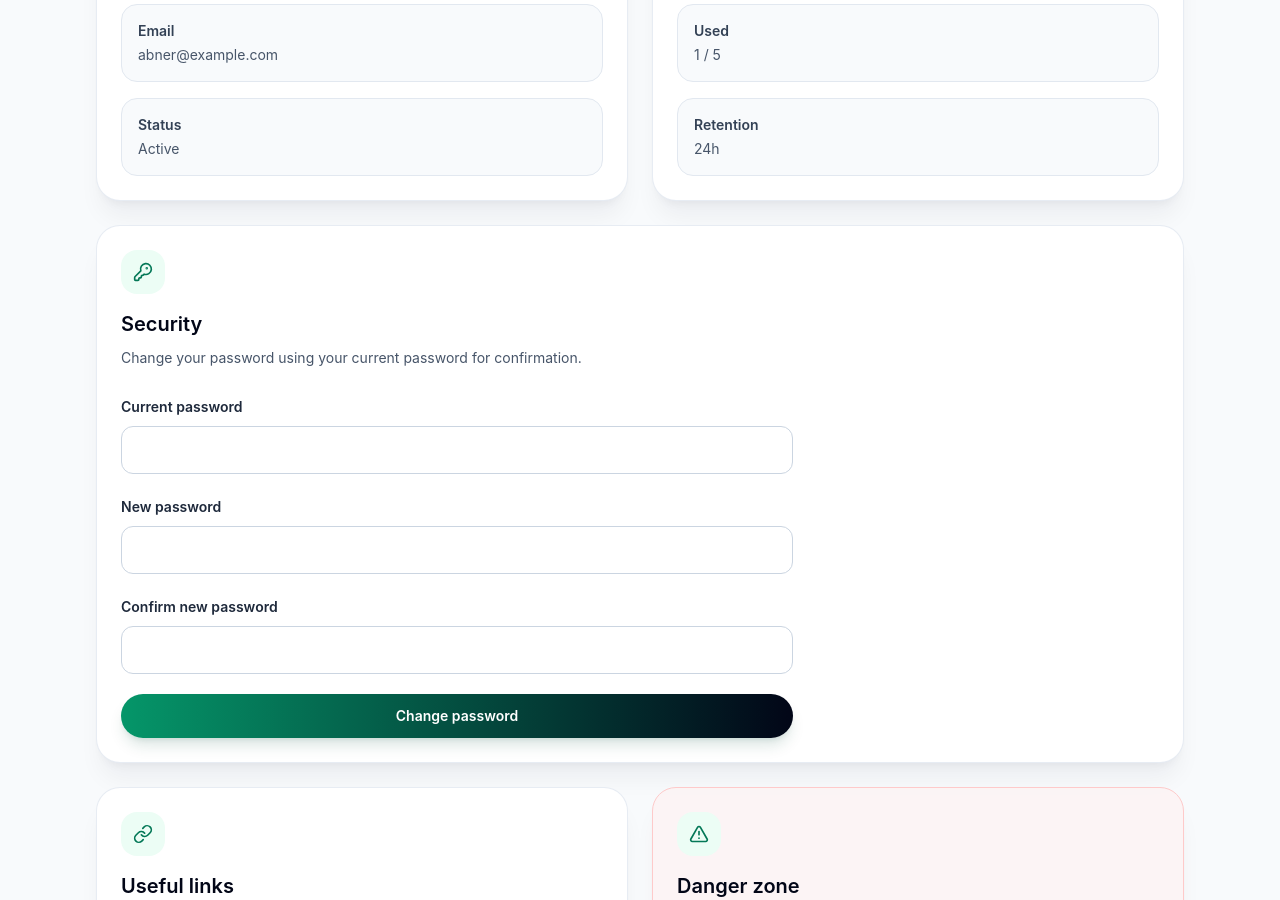
Test case: AccountPage › validates password confirmation before submitting
(page scrolled)
Step 1. Type "StrongPassword123!" into the password field labelled "Current password" → (457, 450), box [121,426,793,474]
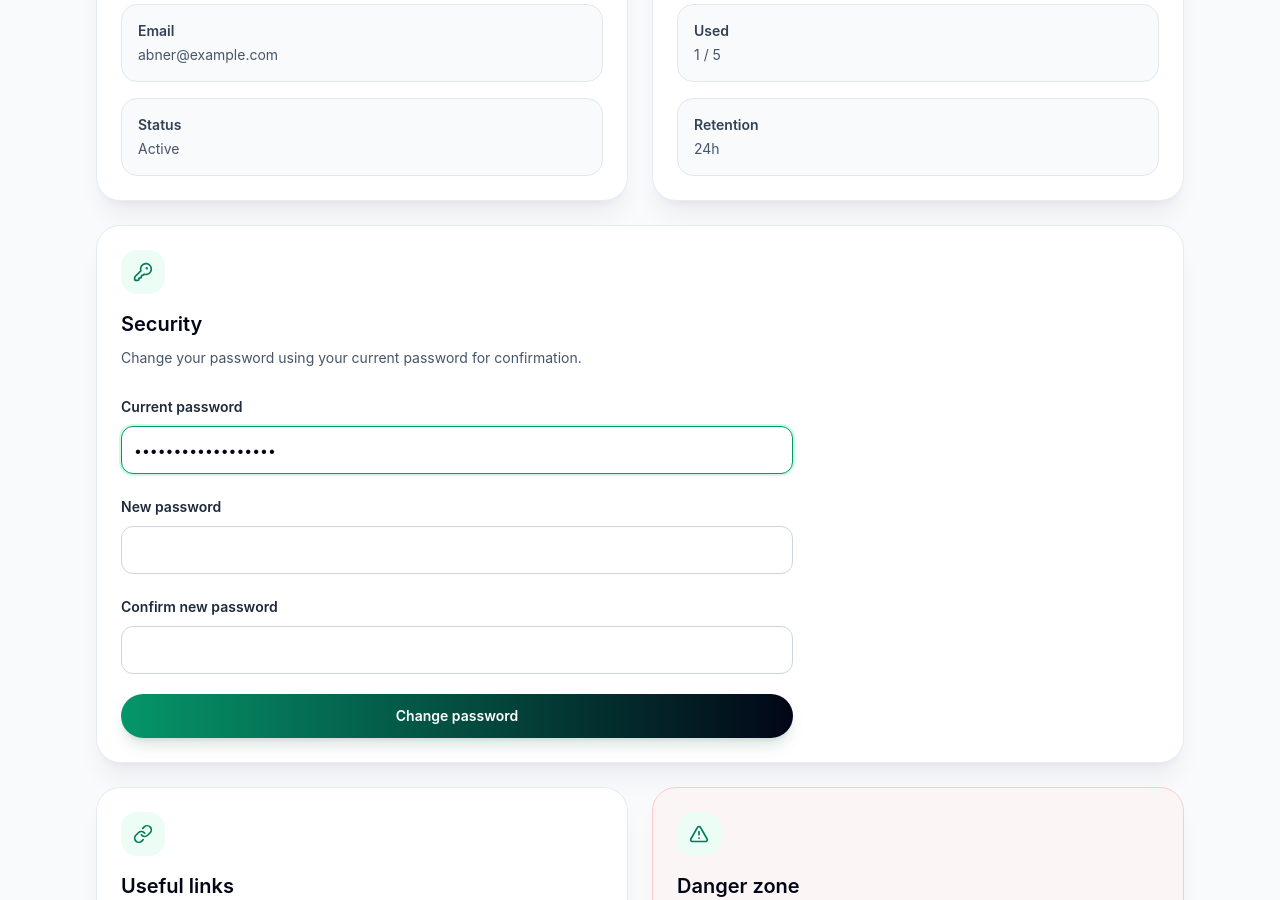
Step 2. Type "NewStrongPassword123!" into the password field labelled "New password" → (457, 550), box [121,526,793,574]
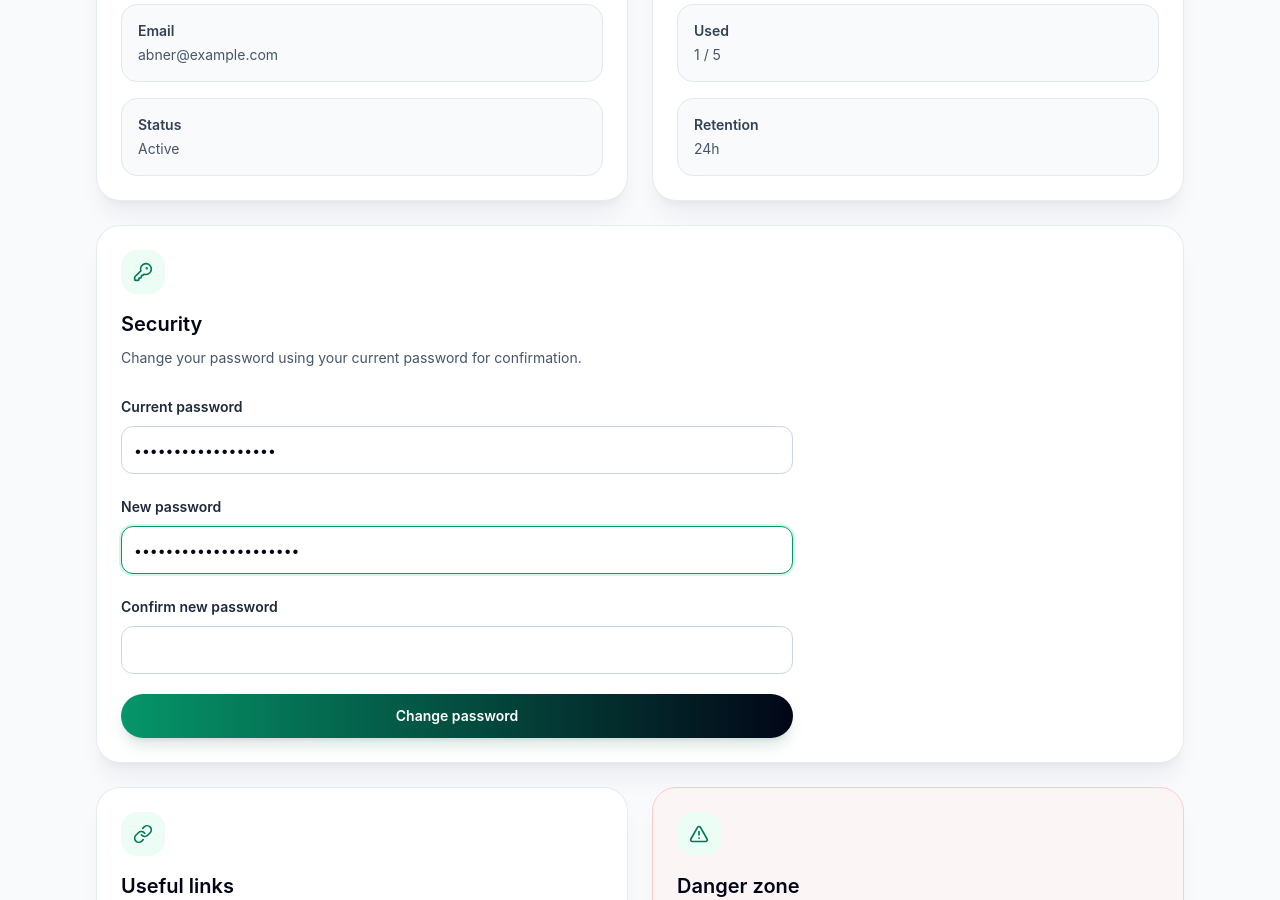
Step 3. Type "DifferentPassword123!" into the password field labelled "Confirm new password" → (457, 650), box [121,626,793,674]
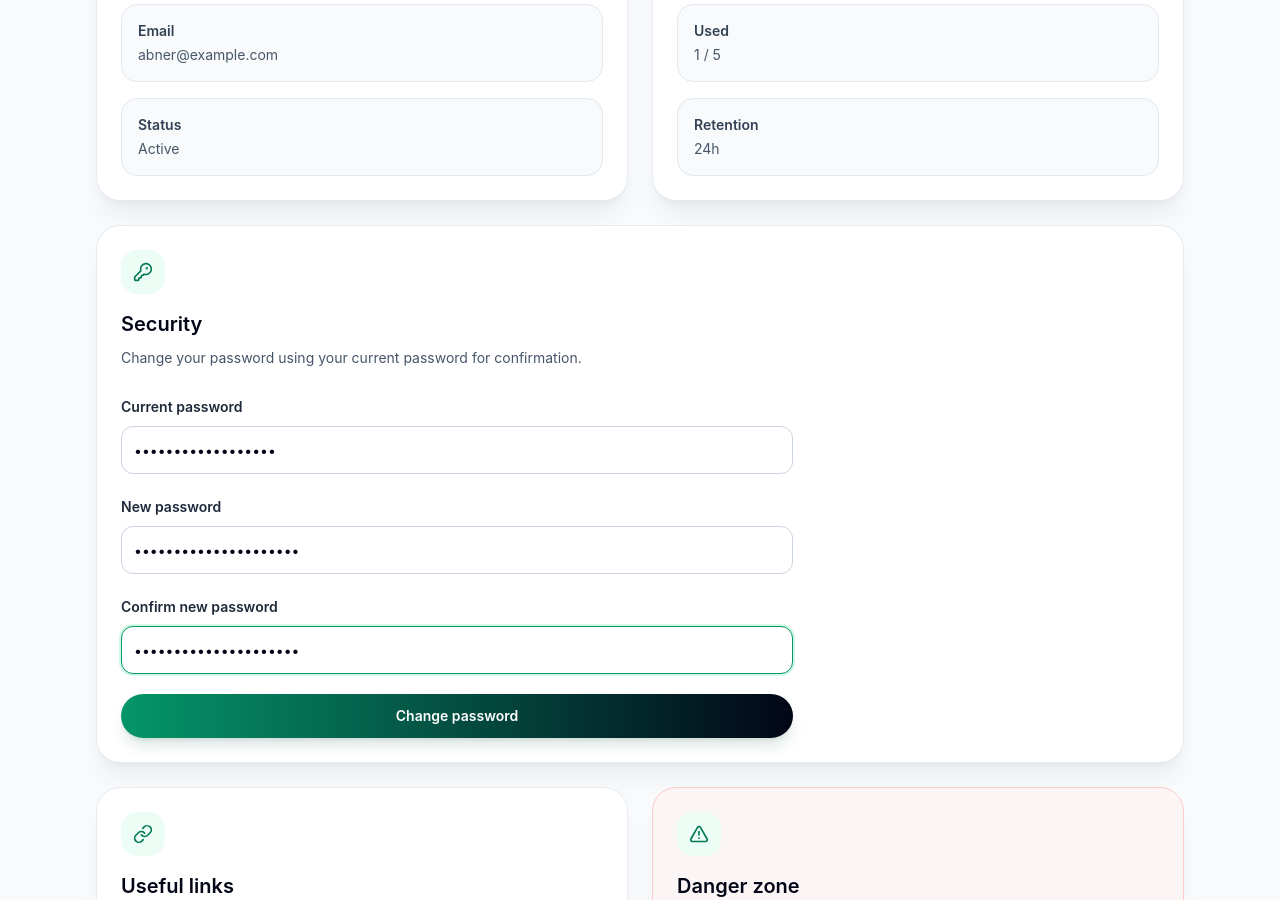
Step 4. Click the button "Change password" → (457, 716), box [121,694,793,738]
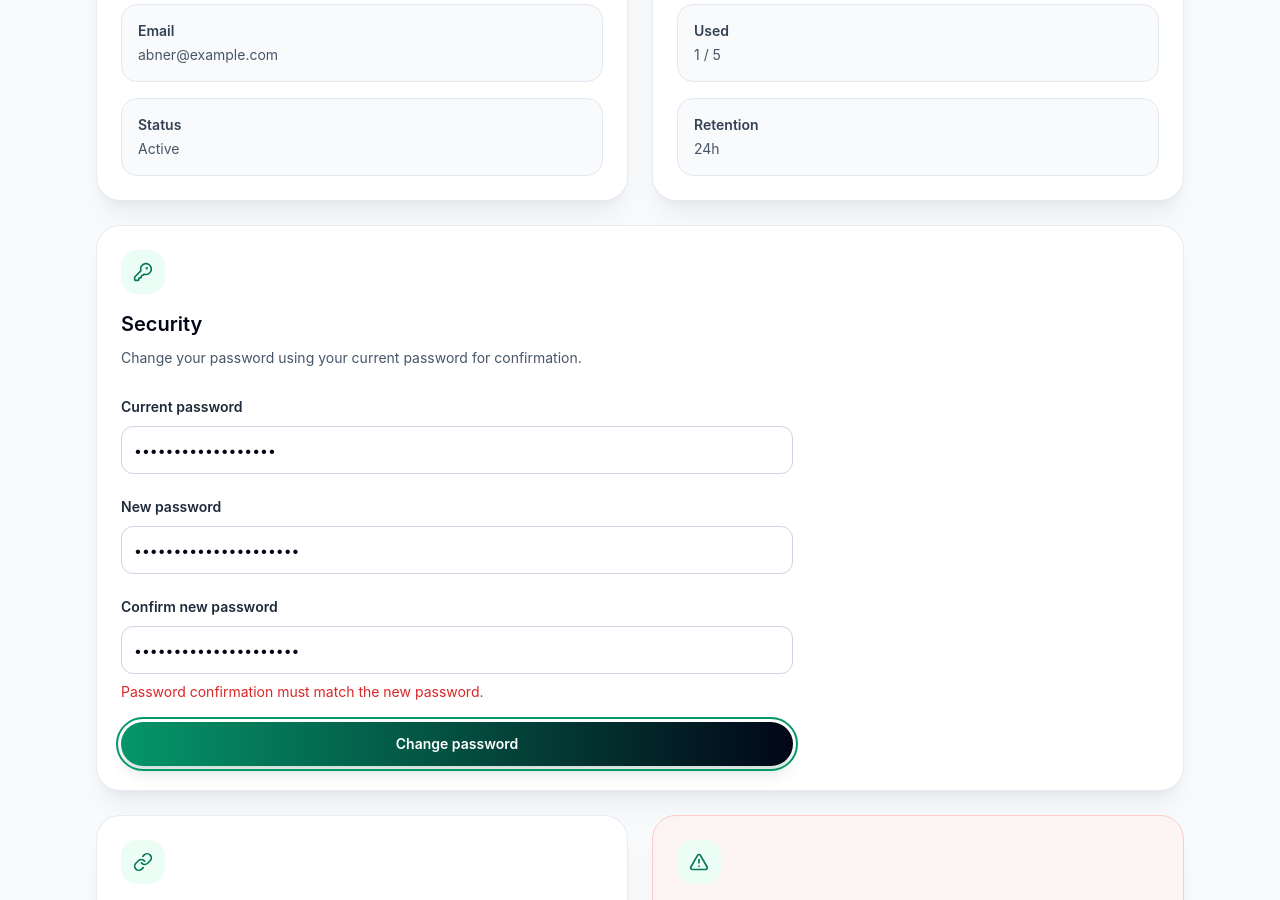
Now the text "Password confirmation must match the new password." is shown, box [121,683,484,700]
